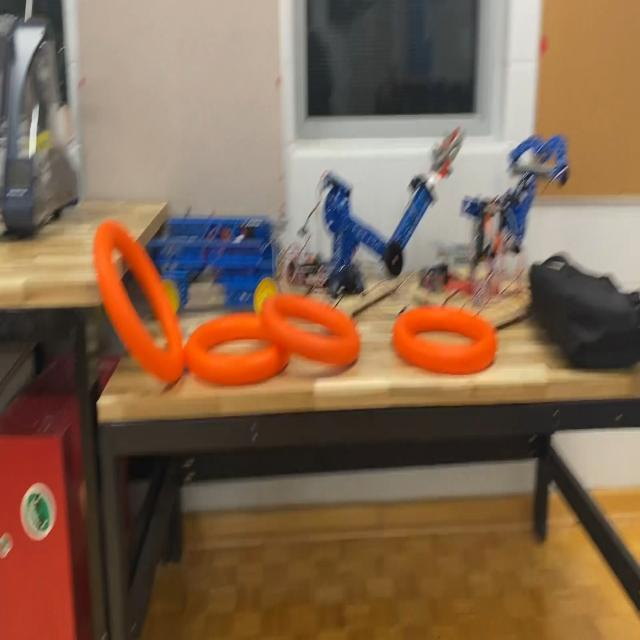note: (95, 219, 185, 382), (261, 290, 361, 369), (392, 305, 497, 379), (185, 313, 289, 386)
